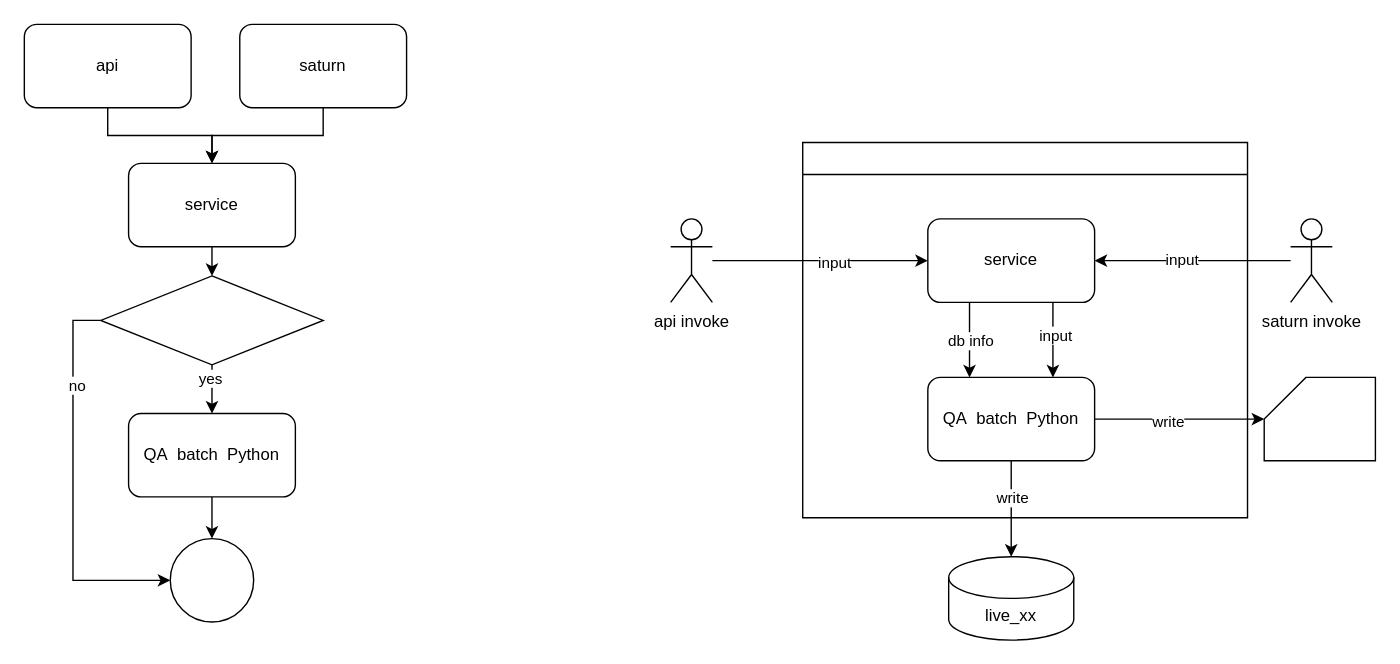
Image size: 1400x664. Some labels were removed from this diagram. The shapes that lost their labels are listed below. From the top down, each one's box as (x1, y1, x2, y2) in pixels, then its label:
(99, 275, 323, 365): env == live & cid == xx
(801, 141, 1248, 518): wmsv2
(1263, 376, 1375, 461): log file
(169, 537, 254, 622): end
